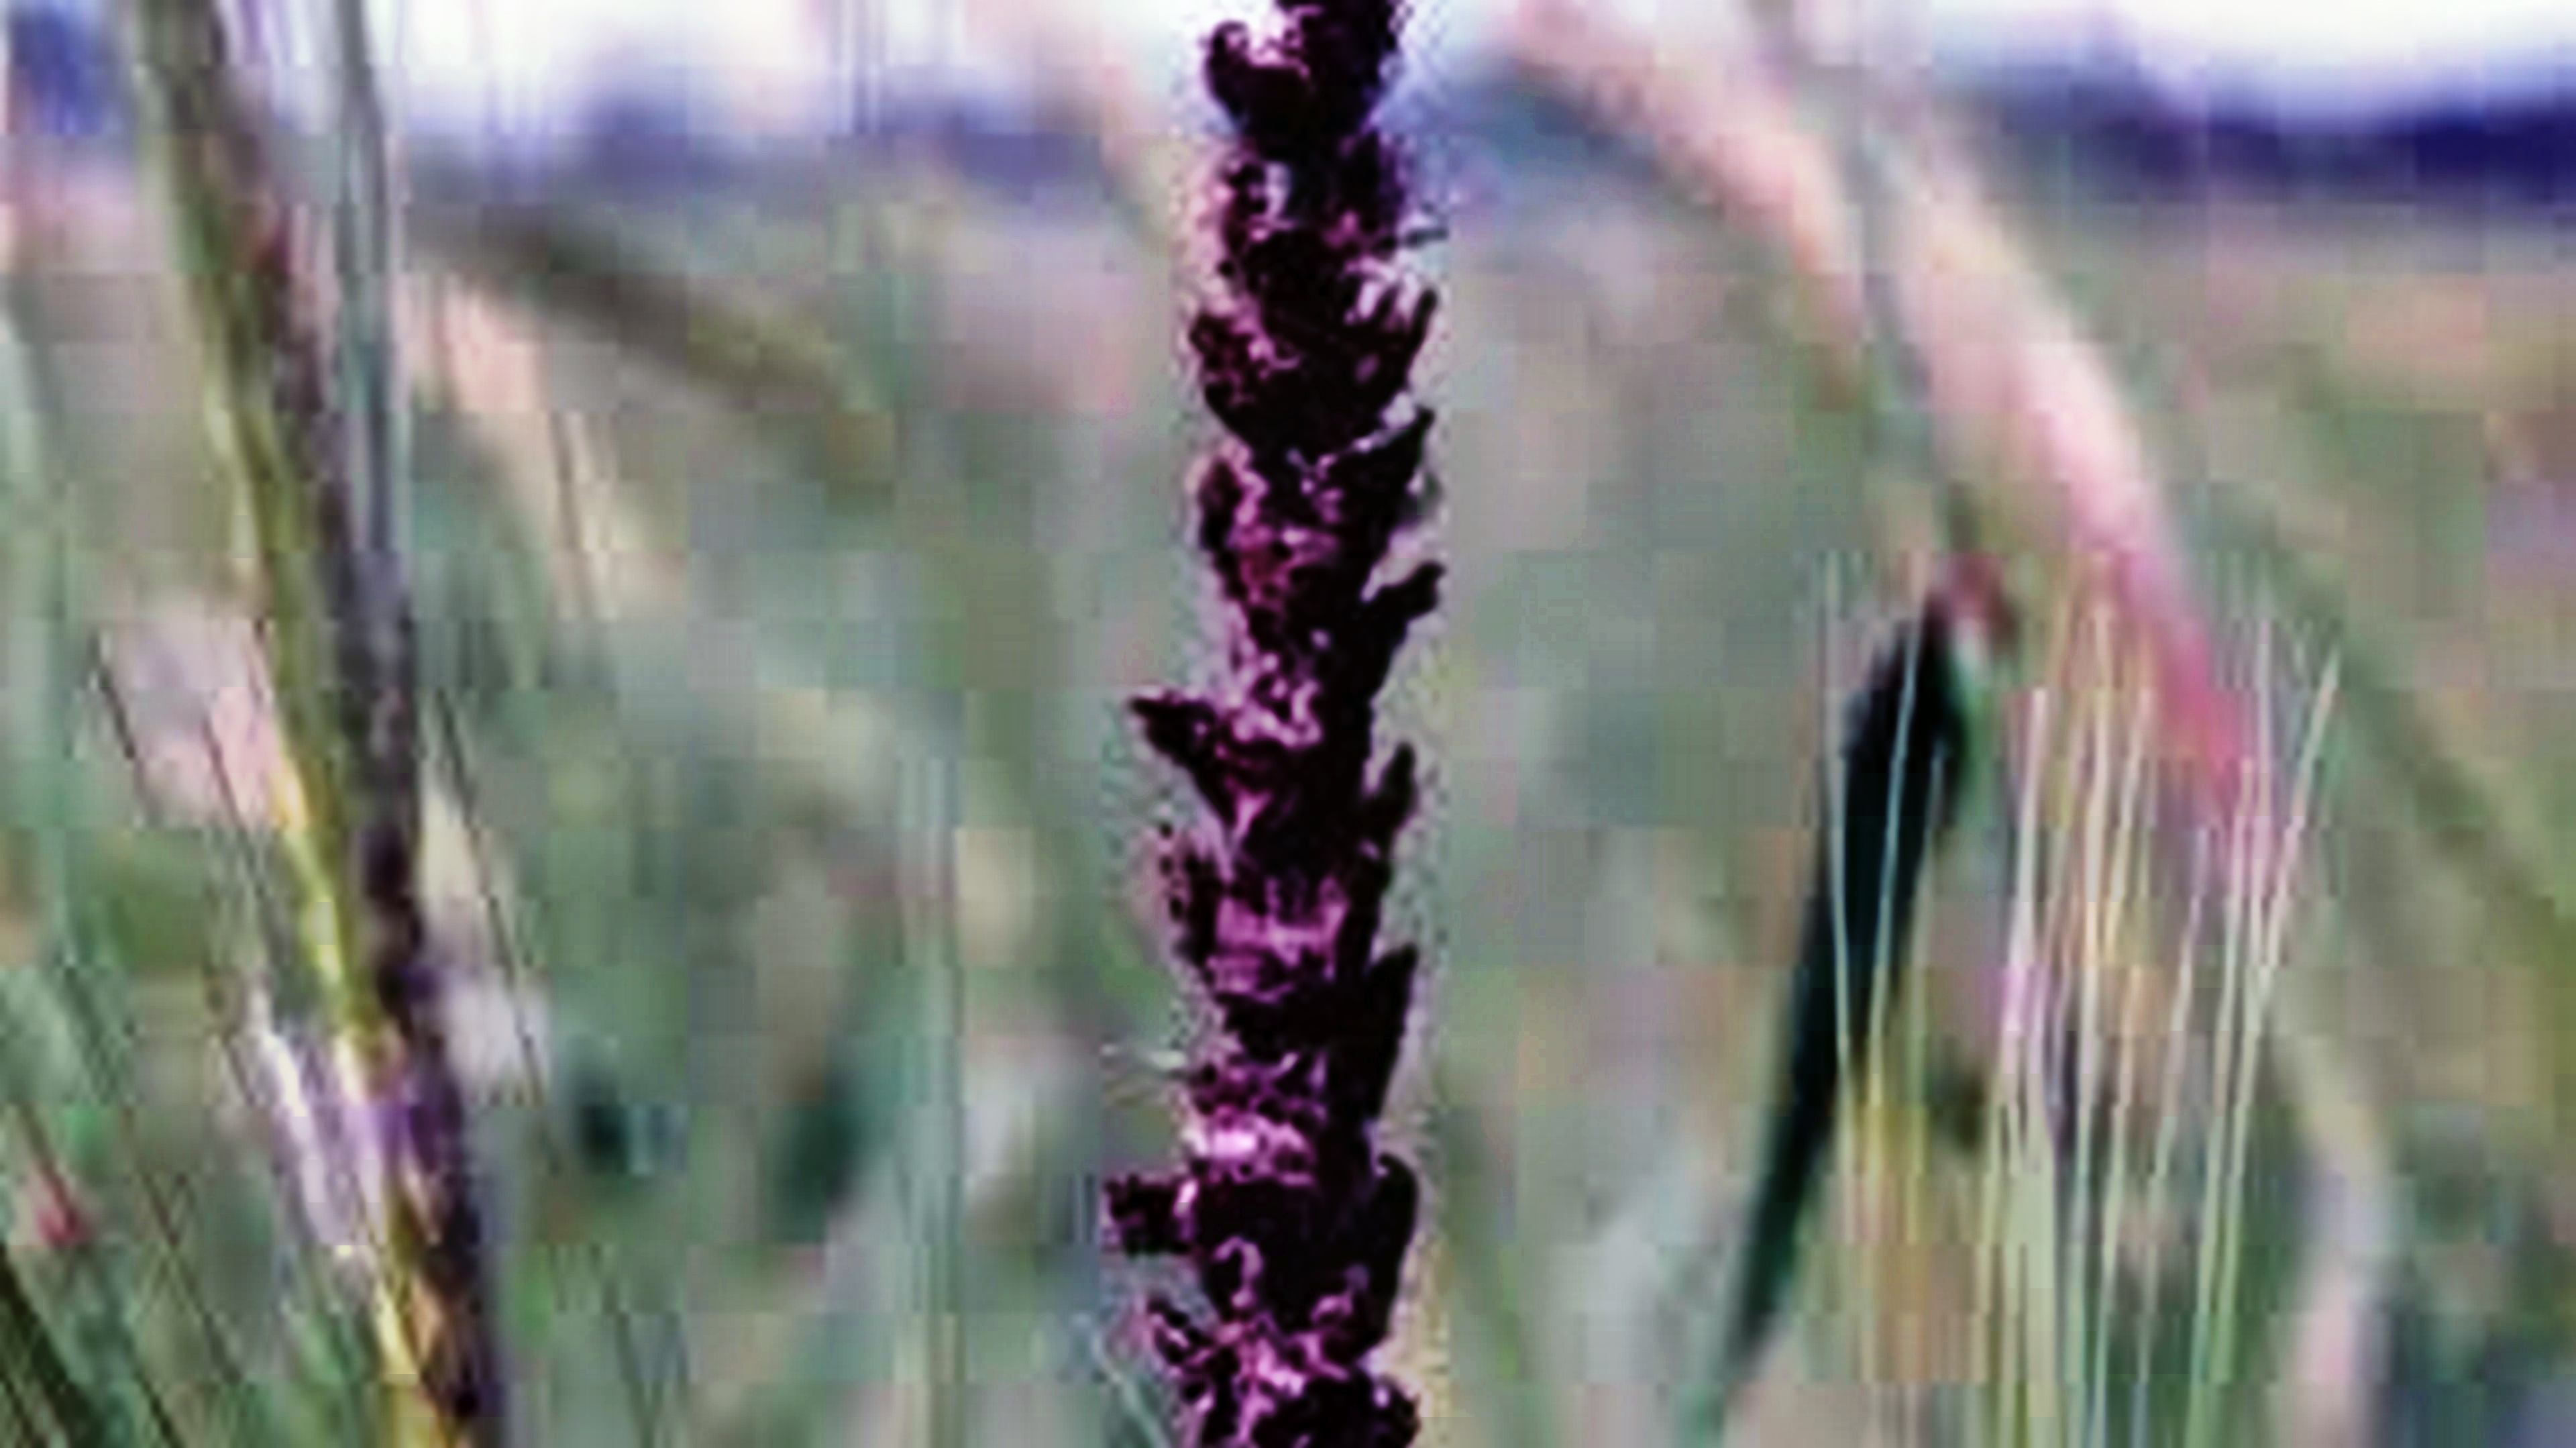Wheat Loose Smut: (1116, 42, 1479, 1432)
